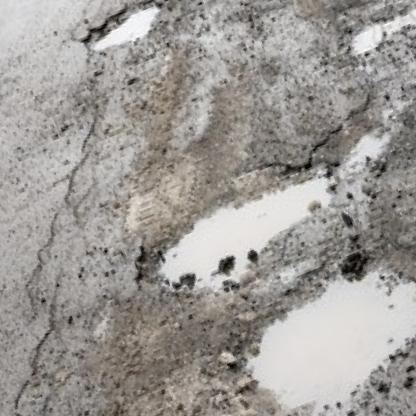pothole: (133, 153, 361, 314), (219, 236, 416, 416), (74, 0, 172, 61)
